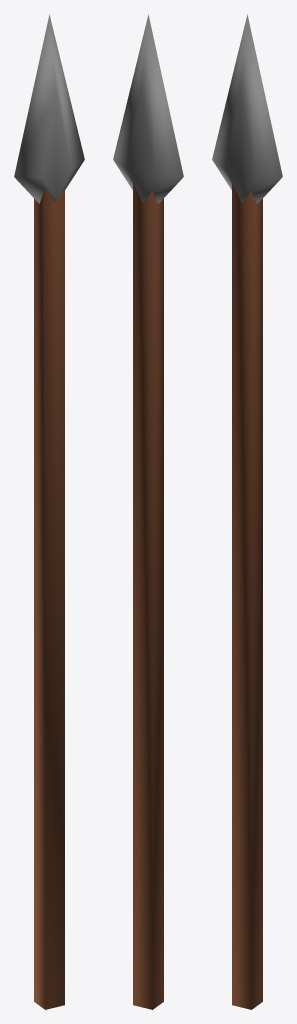
File: SpearFBX.fbx
The picture shows the model from 3 angles, left to right: view 1: azimuth 30°, elevation 25°; view 2: azimuth 150°, elevation 25°; view 3: azimuth 330°, elevation 25°; orthographic projection.
Visible parts, largest first — view 1: Cube; view 2: Cube; view 3: Cube.
Part boxes in pixels (x1,y1,x2,y2): Cube: [14, 14, 84, 1009]; Cube: [113, 14, 183, 1009]; Cube: [212, 14, 282, 1009].
Bounding box in the file's own units: 82.38 × 1099 × 28.32.
